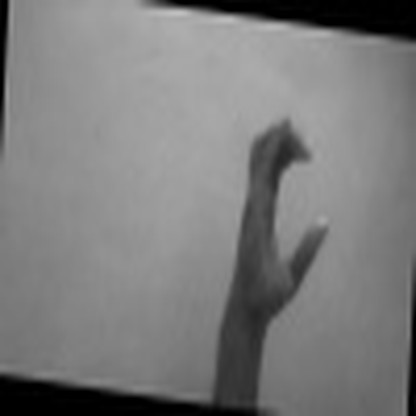c: (235, 114, 332, 309)
